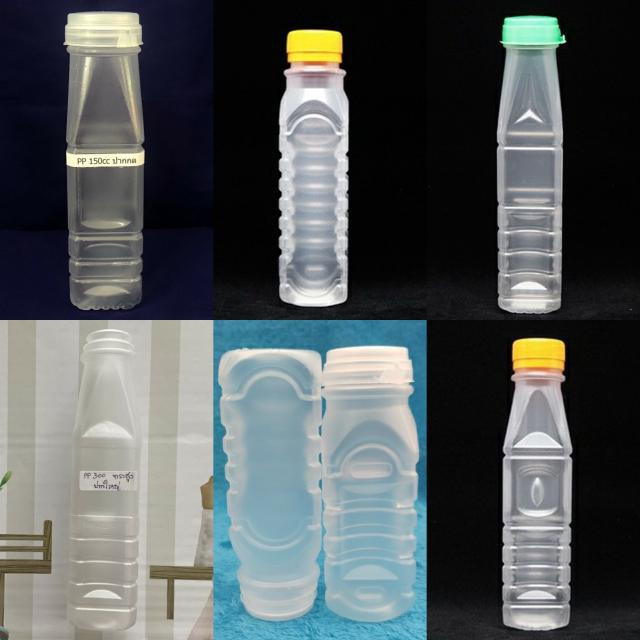Single-Use-Plastic: (219, 349, 321, 620), (321, 345, 419, 622), (65, 11, 145, 310), (68, 329, 141, 630), (502, 338, 572, 630), (498, 16, 565, 313), (279, 30, 349, 306)
